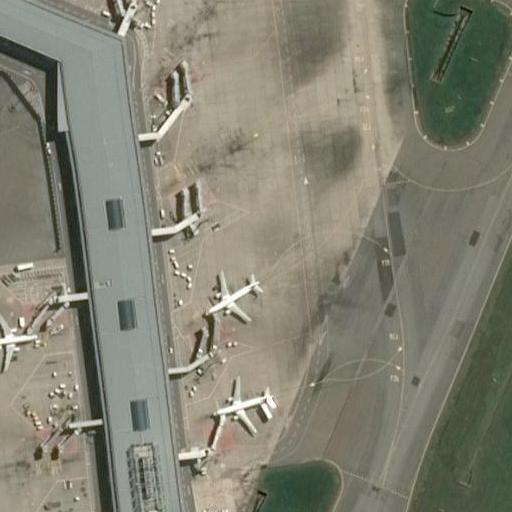Aircraft: (199, 266, 271, 331), (205, 379, 274, 433), (0, 304, 35, 371)
